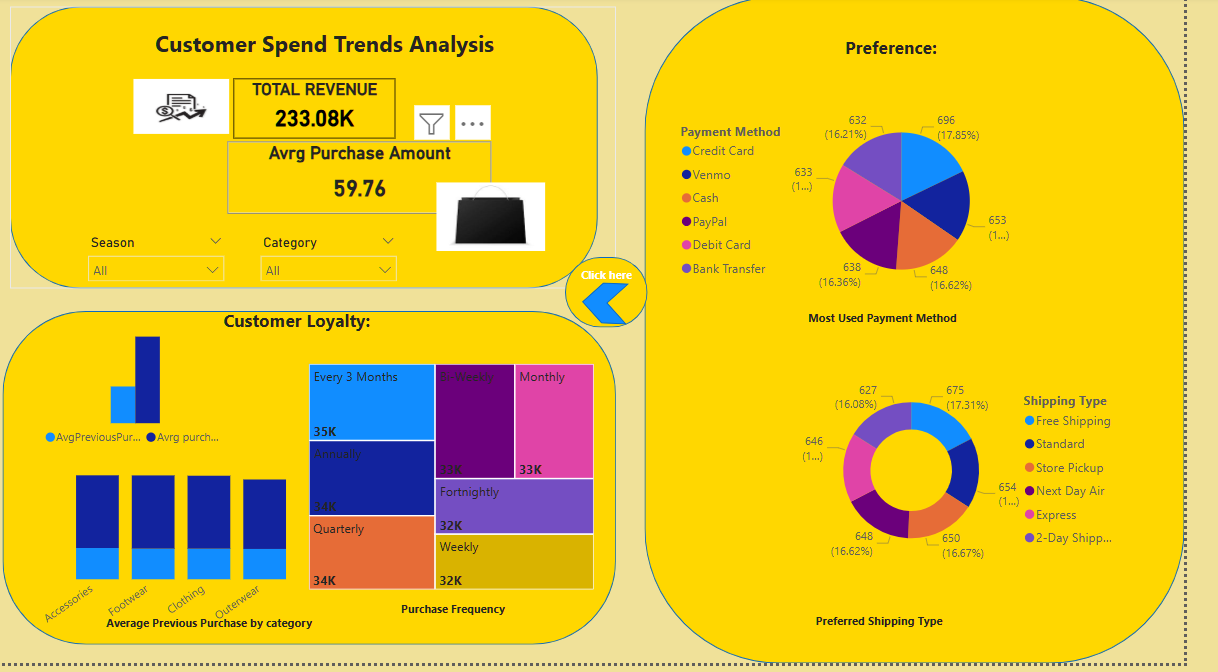

The page's visual inventory and layout, read from the dashboard file:
{"tool":"powerbi","page":{"name":"Page 2","canvas":[1280,720],"ordinal":1},"visuals":[{"type":"shape","box":[697.9,0,582.9,720.6],"z":0,"group":"g3"},{"type":"group","id":"g1","title":"Group 5","box":[13,11.3,654.2,304.4],"z":0},{"type":"shape","box":[13,11.3,634.4,304.4],"z":0,"group":"g1"},{"type":"shape","box":[611.5,282,89.1,76.1],"z":0,"group":"g4"},{"type":"shape","box":[4.9,339.3,662.3,360.2],"z":0,"group":"g2"},{"type":"textbox","box":[38.9,29.1,628.3,47],"z":1000,"group":"g1"},{"type":"pieChart","fields":{"Category":["shopping_trends.Payment Method"],"Y":["CountNonNull(shopping_trends.Customer ID)"]},"box":[731.2,87.5,367.6,267.1],"z":1000,"group":"g3"},{"type":"group","id":"g2","title":"Group 1","box":[4.9,331.9,662.3,367.6],"z":1000},{"type":"lineClusteredColumnComboChart","fields":{"Y":["shopping_trends.AvgPreviousPurchase","shopping_trends.Avrg purchase amount"]},"box":[45.4,353.6,208.9,141.8],"z":1000,"group":"g2"},{"type":"group","id":"g3","title":"Group 2","box":[697.9,0,582.9,720.6],"z":2000},{"type":"card","title":"TOTAL REVENUE","fields":{"Values":["shopping_trends.Total Revenue"]},"box":[254.3,89,174.9,64.8],"z":2000,"group":"g1"},{"type":"donutChart","fields":{"Category":["shopping_trends.Shipping Type"],"Y":["CountNonNull(shopping_trends.Customer ID)"]},"box":[858.8,367.4,359.5,288.2],"z":2000,"group":"g3"},{"type":"treemap","fields":{"Group":["shopping_trends.Frequency of Purchases"],"Values":["Sum(shopping_trends.Purchase Amount (USD))"]},"box":[330.4,391.9,317.4,253.4],"z":2000,"group":"g2"},{"type":"group","id":"g4","title":"Group 6","box":[611.5,282,89.1,76.1],"z":2001,"group":"g5"},{"type":"shape","box":[629.9,309.2,51.8,45.3],"z":2002,"group":"g5"},{"type":"group","id":"g5","title":"Group 3","box":[611.5,282,89.1,76.1],"z":2003},{"type":"textbox","box":[780.1,36.8,367.6,47.3],"z":3000,"group":"g3"},{"type":"card","title":"Avrg Purchase Amount","fields":{"Values":["shopping_trends.Avrg purchase amount"]},"box":[247.8,157,285,77.7],"z":3000,"group":"g1"},{"type":"lineStackedColumnComboChart","fields":{"Category":["shopping_trends.Category"],"Y":["shopping_trends.AvgPreviousPurchase","shopping_trends.Avrg purchase amount"]},"box":[38.9,484.3,302.8,215.2],"z":3000,"group":"g2"},{"type":"image","box":[140.9,84.2,113.3,69.6],"z":4000,"group":"g1"},{"type":"textbox","box":[764.3,332.7,381.8,40.6],"z":4000,"group":"g3"},{"type":"textbox","box":[87.5,661.2,281.7,35.1],"z":4000,"group":"g2"},{"type":"image","box":[468,195.9,127.9,84.2],"z":5000,"group":"g1"},{"type":"textbox","box":[171.7,331.9,302.4,46.6],"z":5000,"group":"g2"},{"type":"textbox","box":[805.3,659,293.5,38.9],"z":5000,"group":"g3"},{"type":"slicer","fields":{"Values":["shopping_trends.Category"]},"box":[273.7,252.6,166.8,55.1],"z":6000,"group":"g1"},{"type":"textbox","box":[369.2,645.3,244.5,33.5],"z":6000,"group":"g2"},{"type":"slicer","fields":{"Values":["shopping_trends.Season"]},"box":[87.5,252.6,166.8,55.1],"z":7000,"group":"g1"}]}

Visuals, with their boxes in screenshot pixels (x1, y1, x2, y2), scaled from the page's 1280x720 canvas onto the 1218x672 screenshot:
shape: crop(664, 0, 1217, 671)
"Group 5" group: crop(12, 11, 635, 295)
shape: crop(12, 11, 616, 295)
shape: crop(582, 263, 667, 334)
shape: crop(5, 317, 635, 653)
textbox: crop(37, 27, 635, 71)
pieChart - shopping_trends.Payment Method x CountNonNull(shopping_trends.Customer ID): crop(696, 82, 1046, 331)
"Group 1" group: crop(5, 310, 635, 653)
lineClusteredColumnComboChart - shopping_trends.AvgPreviousPurchase x shopping_trends.Avrg purchase amount: crop(43, 330, 242, 462)
"Group 2" group: crop(664, 0, 1217, 671)
"TOTAL REVENUE" card: crop(242, 83, 408, 144)
donutChart - shopping_trends.Shipping Type x CountNonNull(shopping_trends.Customer ID): crop(817, 343, 1159, 612)
treemap - shopping_trends.Frequency of Purchases x Sum(shopping_trends.Purchase Amount (USD)): crop(314, 366, 616, 602)
"Group 6" group: crop(582, 263, 667, 334)
shape: crop(599, 289, 649, 331)
"Group 3" group: crop(582, 263, 667, 334)
textbox: crop(742, 34, 1092, 78)
"Avrg Purchase Amount" card: crop(236, 147, 507, 219)
lineStackedColumnComboChart - shopping_trends.Category x shopping_trends.AvgPreviousPurchase: crop(37, 452, 325, 653)
image: crop(134, 79, 242, 144)
textbox: crop(727, 311, 1091, 348)
textbox: crop(83, 617, 351, 650)
image: crop(445, 183, 567, 261)
textbox: crop(163, 310, 451, 353)
textbox: crop(766, 615, 1046, 651)
slicer - shopping_trends.Category: crop(260, 236, 419, 287)
textbox: crop(351, 602, 584, 634)
slicer - shopping_trends.Season: crop(83, 236, 242, 287)
